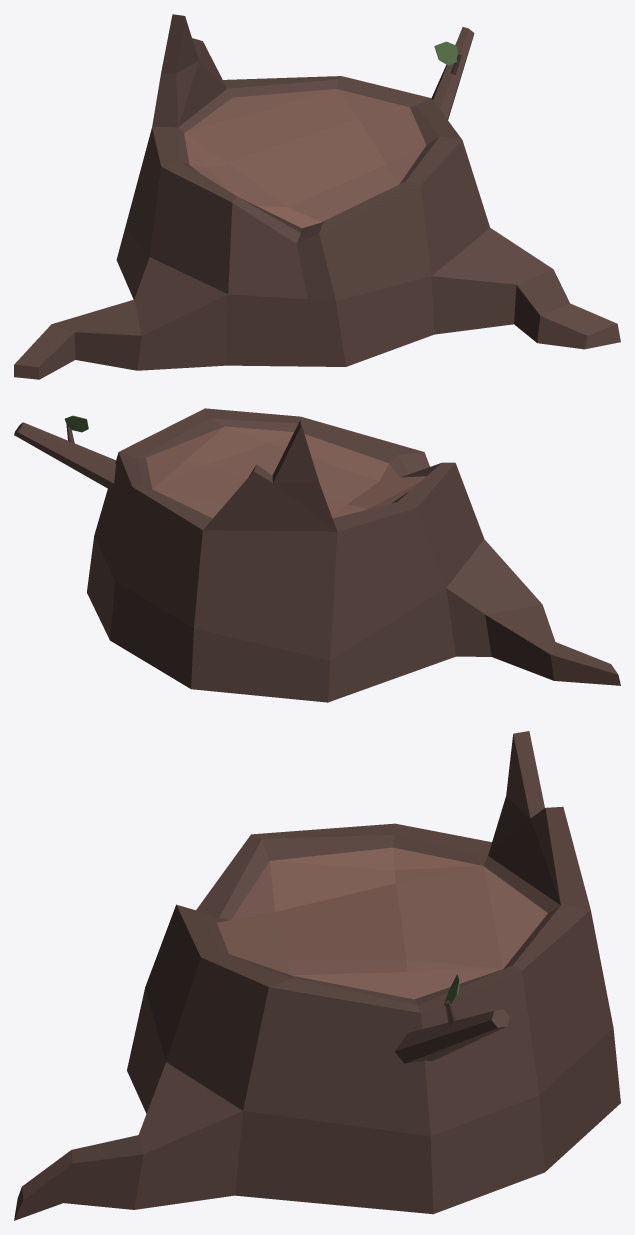
The model's file is stump.fbx.
3 renders of one model, top to bottom at view 1: azimuth 30°, elevation 25°; view 2: azimuth 150°, elevation 25°; view 3: azimuth 270°, elevation 25°, orthographic. The views are drawn at different scales.
Parts seen in each view (by area): view 1: stump; view 2: stump; view 3: stump.
Boxes of the visible parts, x1,y1,x2,y2 form: stump: [14, 14, 620, 379]; stump: [14, 408, 620, 702]; stump: [14, 731, 620, 1220].
Size of the model in its own units: 1.36 by 0.6216 by 1.03.
